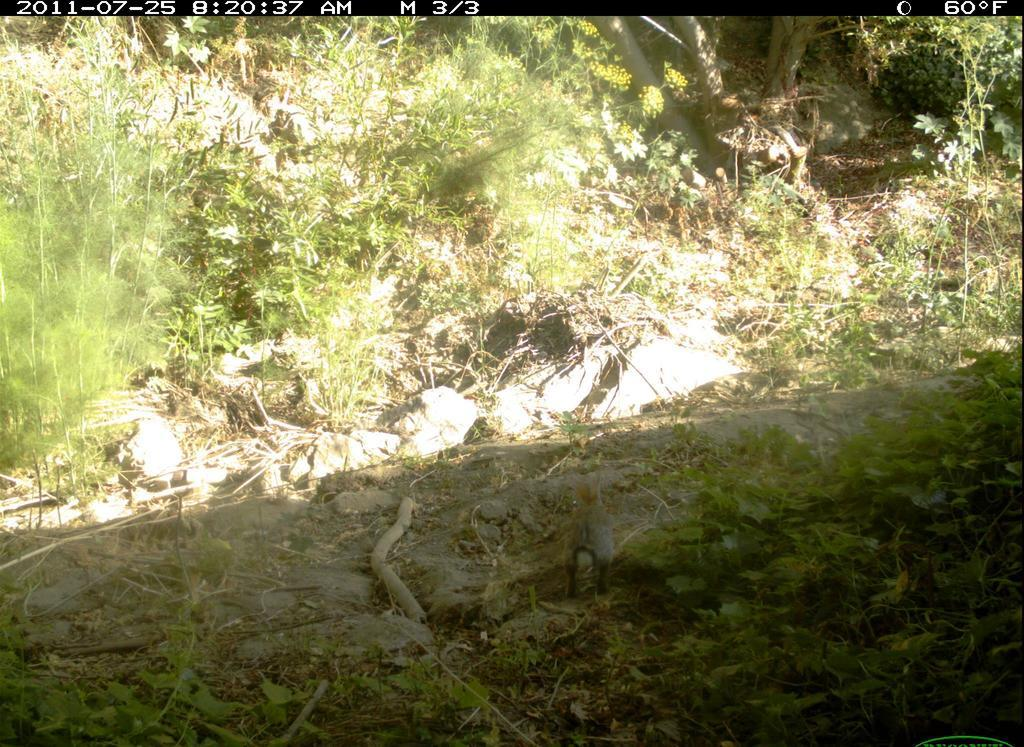rabbit: (547, 460, 626, 612)
